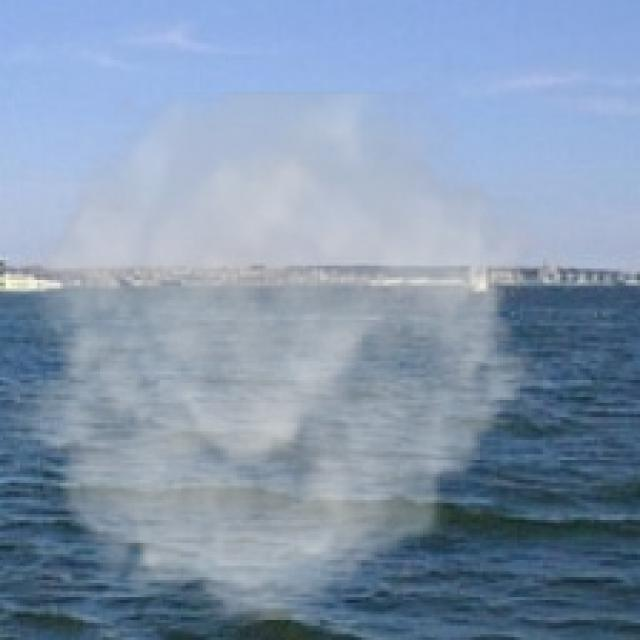smoke: (0, 91, 555, 620)
